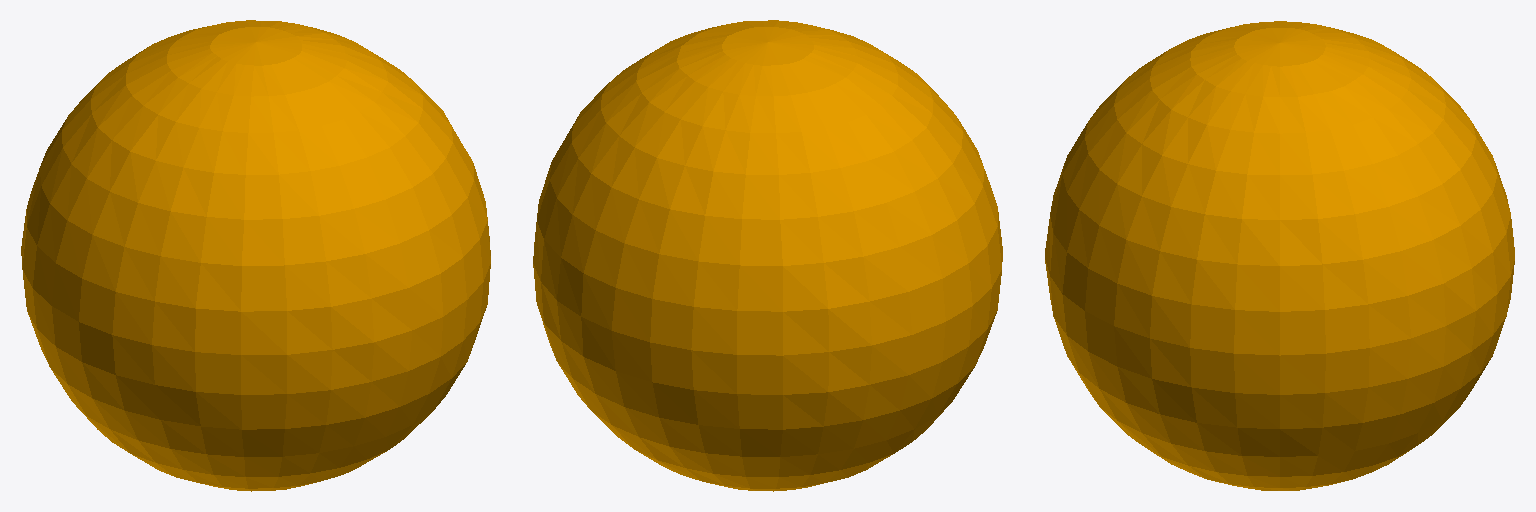
The robot description file, URDF, robot "light_room4":
<?xml version="1.0" ?>

<robot name="light_room4" xmlns:xi="http://www.w3.org/2001/XInclude"
	xmlns:gazebo="http://playerstage.sourceforge.net/gazebo/xmlschema/#gz"
	xmlns:model="http://playerstage.sourceforge.net/gazebo/xmlschema/#model"
	xmlns:sensor="http://playerstage.sourceforge.net/gazebo/xmlschema/#sensor"
	xmlns:body="http://playerstage.sourceforge.net/gazebo/xmlschema/#body"
	xmlns:geom="http://playerstage.sourceforge.net/gazebo/xmlschema/#geom"
	xmlns:joint="http://playerstage.sourceforge.net/gazebo/xmlschema/#joint"
	xmlns:interface="http://playerstage.sourceforge.net/gazebo/xmlschema/#interface"
	xmlns:rendering="http://playerstage.sourceforge.net/gazebo/xmlschema/#rendering"
	xmlns:renderable="http://playerstage.sourceforge.net/gazebo/xmlschema/#renderable"
	xmlns:controller="http://playerstage.sourceforge.net/gazebo/xmlschema/#controller"
	xmlns:physics="http://playerstage.sourceforge.net/gazebo/xmlschema/#physics">

  <link name="bulb_r4">
   <inertial>
	<mass value="1" />
			<com xyz="12.2 5.85 1.9" />
			<inertia ixx="0" ixy="0.0" ixz="0.0" iyy="0" iyz="0.0" izz="0" />
		</inertial>

		<visual>
			<origin xyz="12.2 5.85 1.9" rpy="0 0 0" />  <!--   definition of the visual postion of the object!! -->
			<geometry>
				<sphere radius="0.0001" />
			</geometry>
		</visual>
		<collision>
			<origin xyz="12.2 5.85 1.9" rpy="0 0 0" />
			<geometry>
				<sphere radius="0.0001" />
			</geometry>
		</collision>
	</link>

	<gazebo reference="bulb_r4">
		<model:renderable name="light_r4">
			<xyz>12.2 5.85 1.9</xyz>
			<static>true</static>
			<light>
				<type>point</type>
				<diffuseColor>0.1 0.1 0.1</diffuseColor>
				<specularColor>.01 .01 .01</specularColor>
				<attenuation>0.1 0.1 0.0001</attenuation>
				<range>4</range>
			</light>
		</model:renderable>
	</gazebo>
</robot>

--- What the picture shows (computed from the rendered views, not written in the file) ---
The picture shows the robot from 3 angles, left to right: view 1: azimuth 30°, elevation 25°; view 2: azimuth 150°, elevation 25°; view 3: azimuth 270°, elevation 25°; orthographic projection.
Robot: light_room4 — 1 links, 0 joints (none); root link bulb_r4; default pose: all joints at 0.
Links seen in each view (by area): view 1: bulb_r4; view 2: bulb_r4; view 3: bulb_r4.
Boxes of the visible links, <box> form: bulb_r4: <box>21,20,490,491</box>; bulb_r4: <box>533,20,1002,491</box>; bulb_r4: <box>1045,21,1514,490</box>.
Bounding box of the posed robot: 0.0002 × 0.0002 × 0.0002 m (x, y, z).
Geometry: primitives only (box / cylinder / sphere), no mesh files.